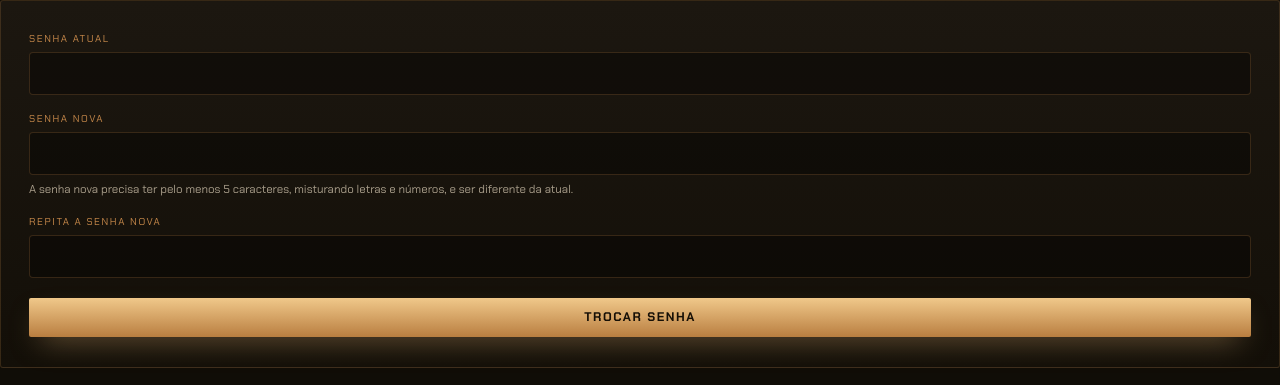
a tela existe e chama a rota de troca › envia senhaAtual e senhaNova para POST /api/conta/senha; com { ok: true } diz que trocou e avisa o cabeçalho
The width and height of the screenshot is (1280, 385).
Type "k7wm-3qfa-x9pe" into the password field labelled "SENHA ATUAL".
click(640, 74); type("k7wm-3qfa-x9pe")  # box [29,52,1251,95]
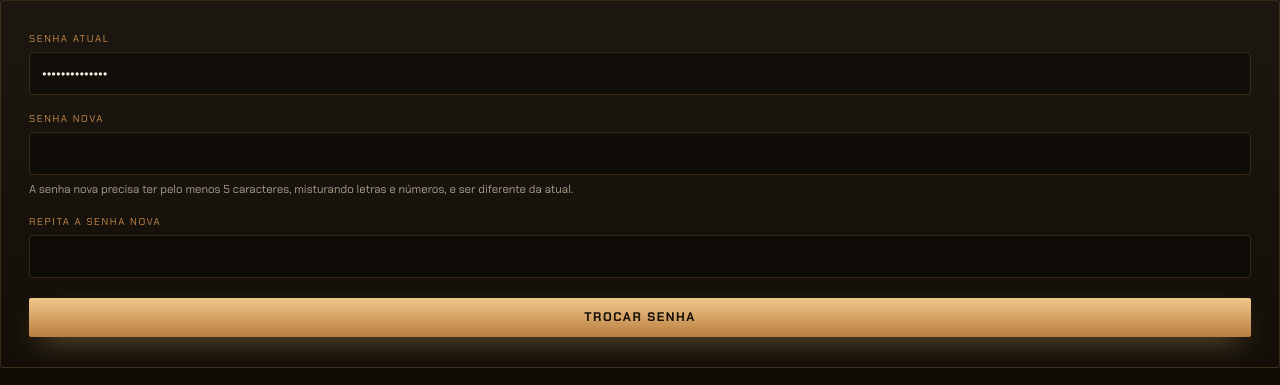
Type "minha-senha-nova-2026" into the password field labelled "SENHA NOVA".
click(640, 154); type("minha-senha-nova-2026")  # box [29,132,1251,175]
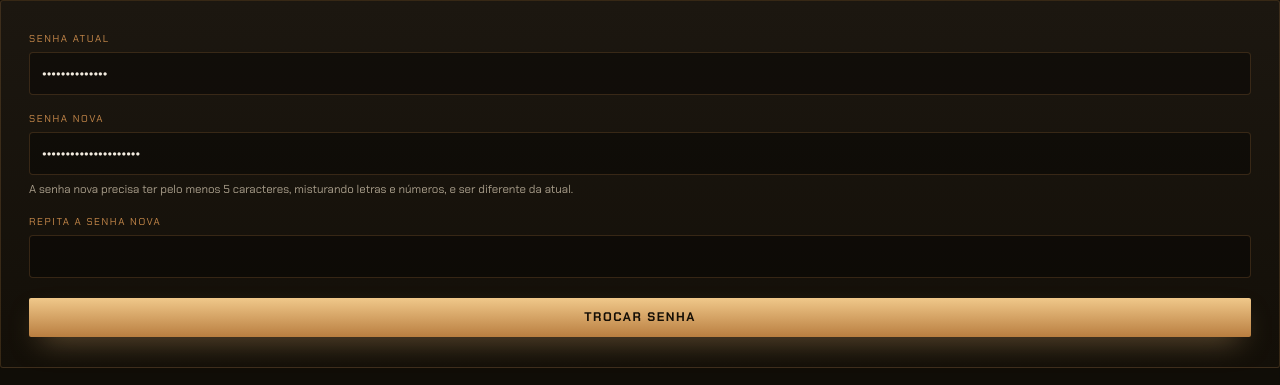
Type "minha-senha-nova-2026" into the password field labelled "REPITA A SENHA NOVA".
click(640, 257); type("minha-senha-nova-2026")  # box [29,235,1251,278]
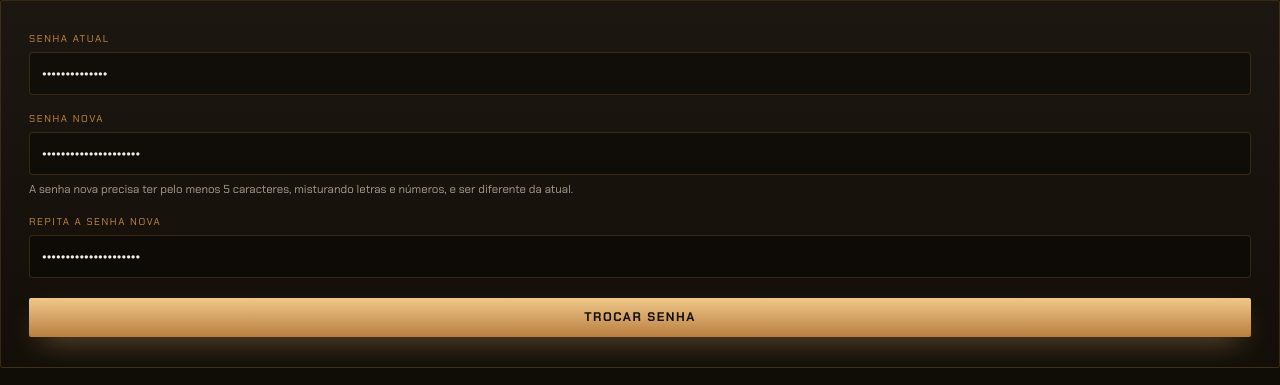
Click the button "TROCAR SENHA".
click(640, 318)  # box [29,298,1251,337]
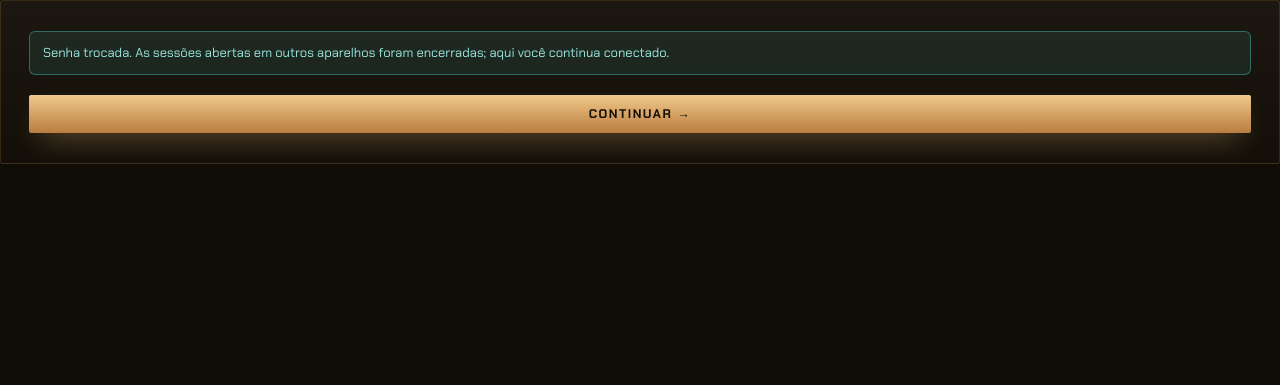
Expected: the message shows "Senha trocada. As sessões abertas em outros aparelhos foram encerradas; aqui você continua conectado.", [43,44,669,61]
